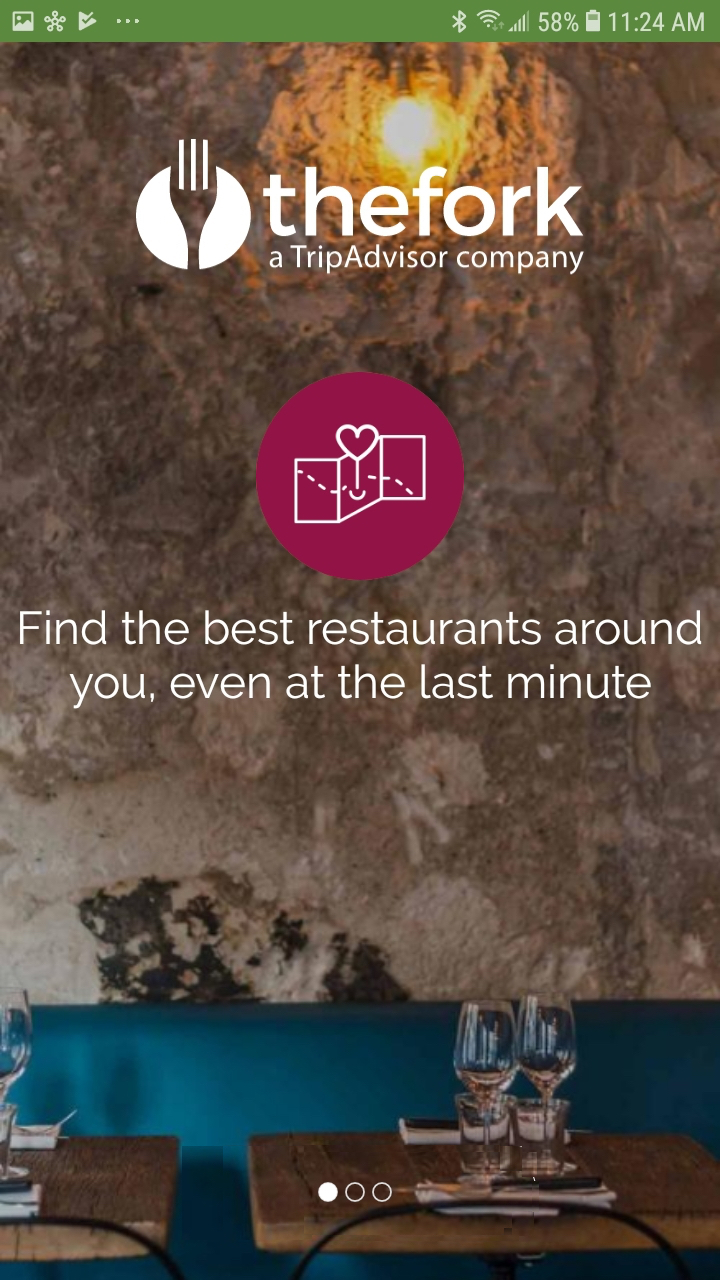BackgroundImage: (1, 43, 720, 1280)
Image: (256, 372, 465, 582), (264, 167, 584, 275), (137, 140, 252, 270)
PageIndicator: (317, 1181, 394, 1204)
Text: (20, 610, 701, 709)
UpperTaskBar: (1, 2, 720, 43)
